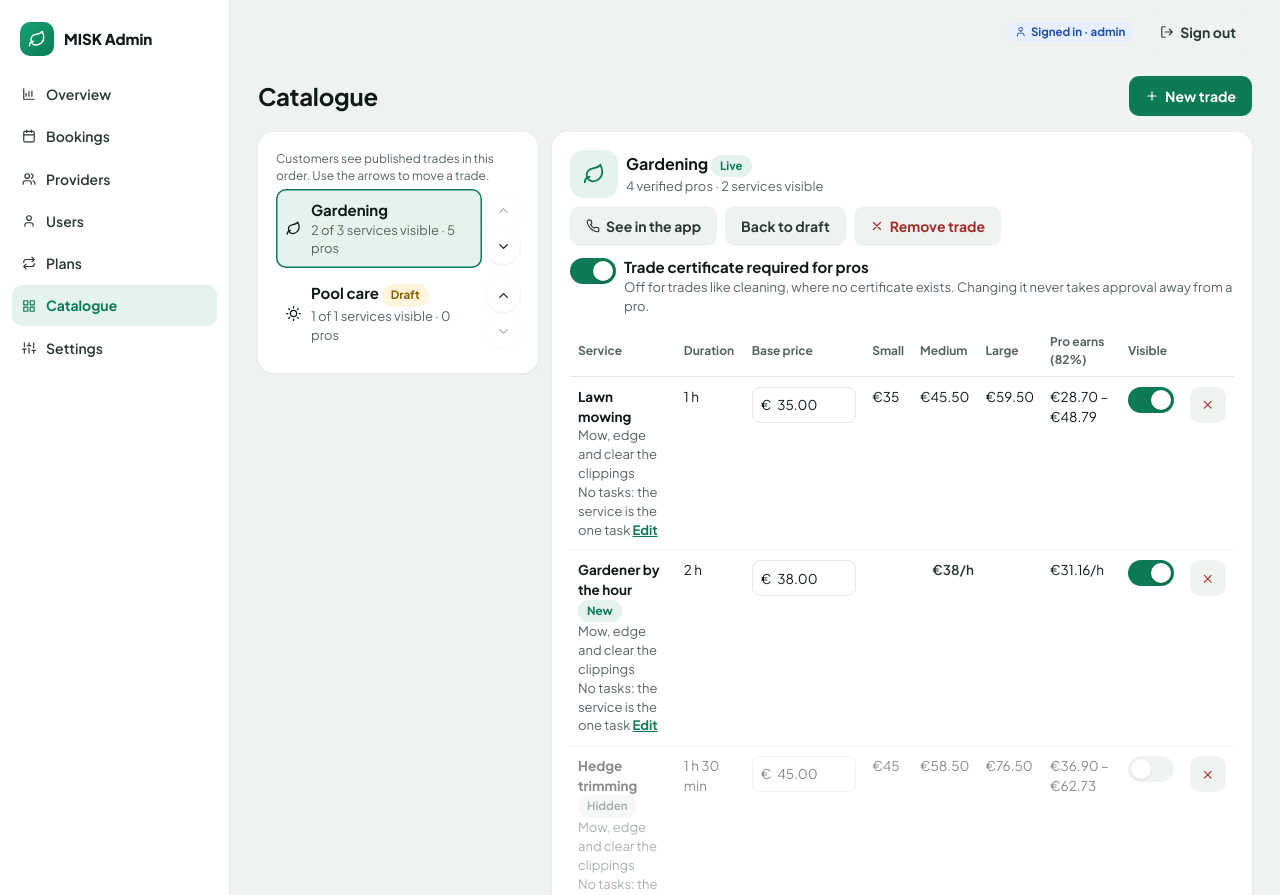
it: catalogue page › lists trades with visible services and pros, and shows the selected trade
Check: the button "Gardening 2 of 3 services visible · 5 pros" is shown, box [276,189,482,268]
Check: the text "4 verified pros · 2 services visible" is shown, box [626,177,823,196]
Click the button "Pool care Draft 1 of 1 services visible · 0 pros".
click(379, 313)  # box [276,272,482,355]
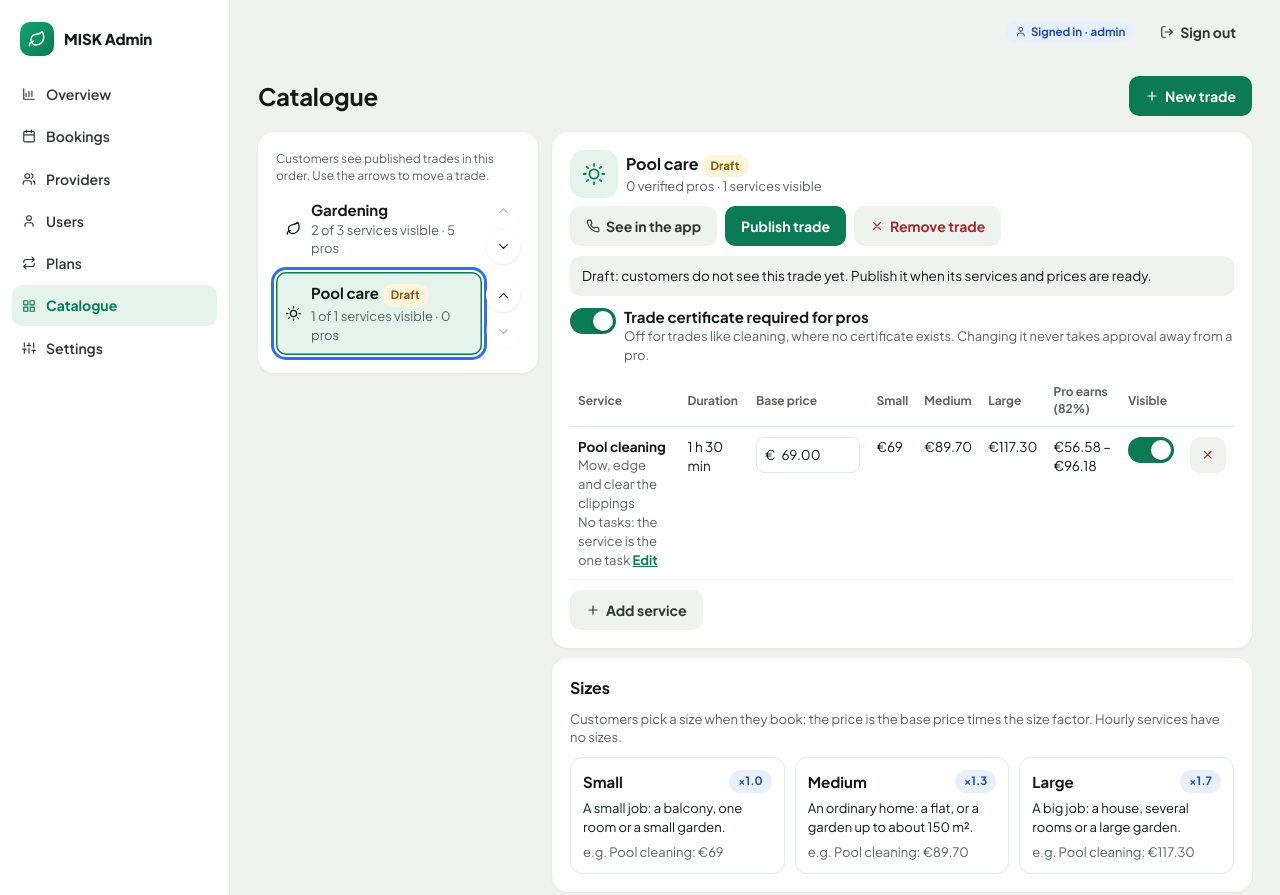
Check: the heading "Pool care Draft" is shown, box [626,153,748,177]
Check: the text "Pool cleaning" is shown, box [578,438,666,455]
Check: the text "Lawn mowing" is gone
